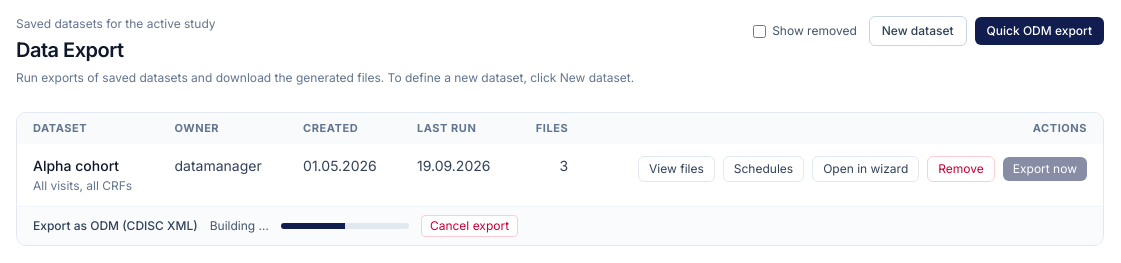
it: DatasetListView — cancel an export (R1-export) › shows the caller's running export after a reload, and asks it to stop
The width and height of the screenshot is (1121, 263).
Expected: the row with test id "bundle-job-11" shows "Export as ODM (CDISC XML)", [33,218,198,233]
Expected: the row with test id "bundle-job-11" shows "Building …", [210,218,269,233]
Click the button with test id "export-job-cancel". click: (470, 226)
box: [421,215,518,237]
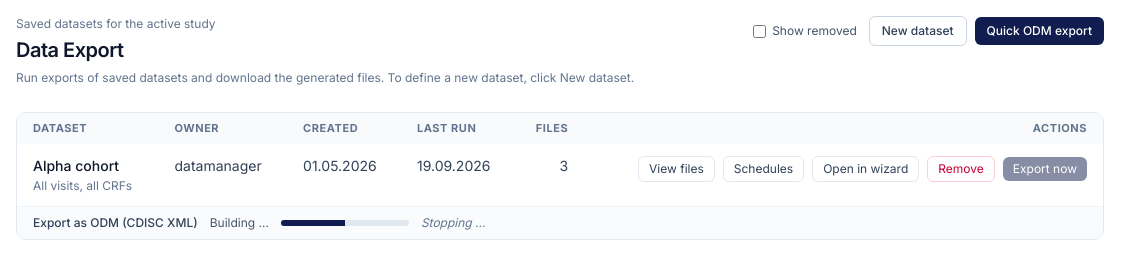
Result: the text with test id "export-job-cancelling" reads "Stopping …" at [421,215,485,230]
